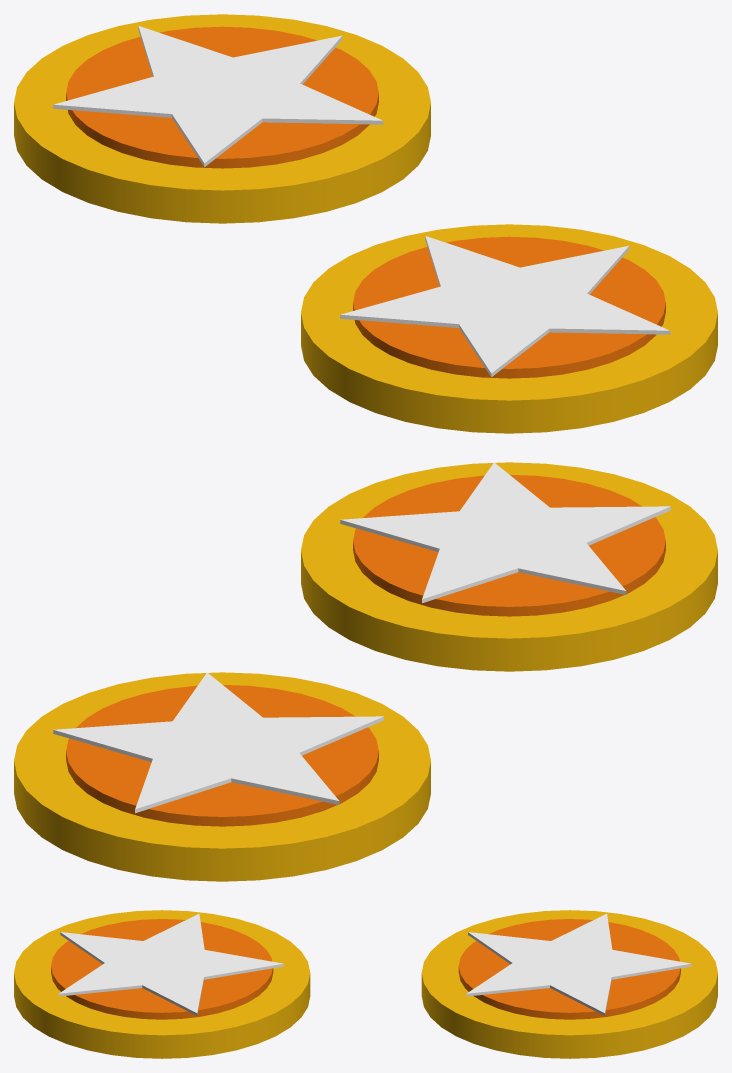
File: Coin.FBX
The picture shows the model from 3 angles, top to bottom: view 1: azimuth 30°, elevation 25°; view 2: azimuth 150°, elevation 25°; view 3: azimuth 270°, elevation 25°; orthographic projection. The views are drawn at different scales.
Visible parts, largest first — view 1: Cylinder003, Cylinder001, Star001, Cylinder002; view 2: Cylinder003, Cylinder001, Star001, Cylinder002; view 3: Cylinder003, Cylinder001, Star001, Cylinder002.
Boxes of the visible parts, x1,y1,x2,y2 form: Cylinder003: (301,224,717,433); Cylinder001: (14,14,430,223); Star001: (53,26,383,166); Cylinder002: (66,26,378,168); Cylinder003: (301,462,717,671); Cylinder001: (14,672,430,881); Star001: (53,672,383,813); Cylinder002: (66,685,378,826); Cylinder003: (14,910,310,1058); Cylinder001: (421,910,717,1058); Star001: (466,913,691,1015); Cylinder002: (458,919,680,1019).
Bounding box in the file's own units: 9.6 × 1.18 × 22.81.
